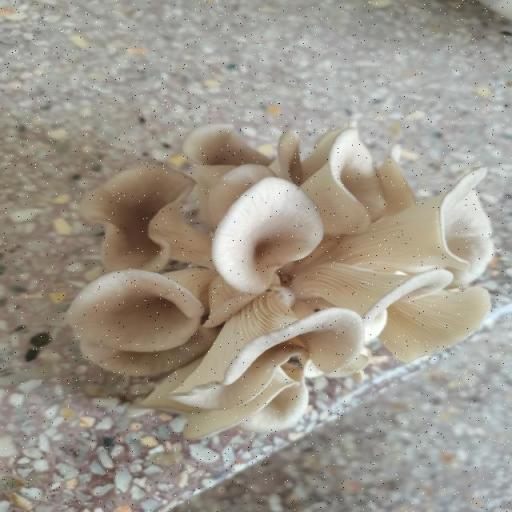White Oyster Mushroom: (70, 122, 494, 436)
